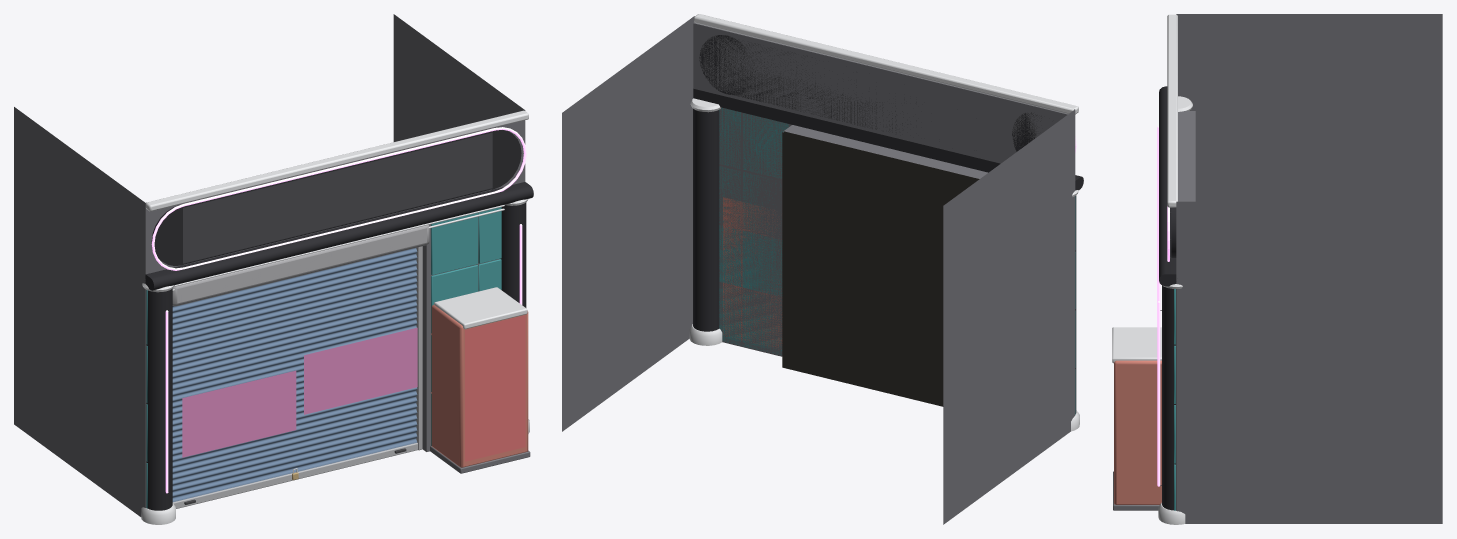
Rendered from retro_shuttered_5a.glb.
3 views of the same model, side by side, from view 1: azimuth 30°, elevation 25°; view 2: azimuth 150°, elevation 25°; view 3: azimuth 270°, elevation 25° (orthographic).
Visible parts, largest first — view 1: retro_shuttered_5a; view 2: retro_shuttered_5a; view 3: retro_shuttered_5a.
Part boxes in pixels (bbox=[...]): retro_shuttered_5a: bbox=[14, 14, 533, 524]; retro_shuttered_5a: bbox=[562, 14, 1083, 524]; retro_shuttered_5a: bbox=[1112, 14, 1442, 524].
Size of the model in its own units: 5.06 by 4 by 3.72.
